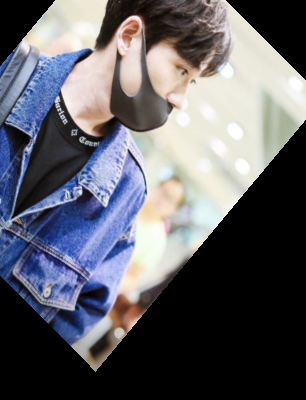mask_weared_incorrect: (91, 2, 240, 137)
